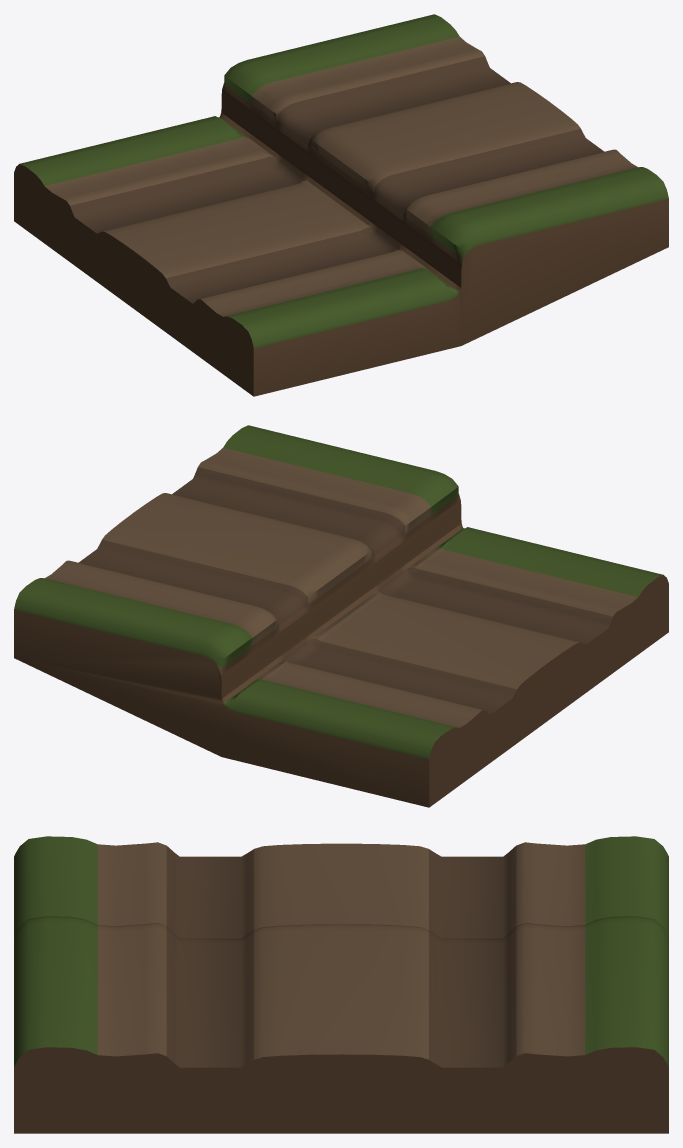
The picture shows the model from 3 angles, top to bottom: view 1: azimuth 30°, elevation 25°; view 2: azimuth 150°, elevation 25°; view 3: azimuth 270°, elevation 25°; orthographic projection. The views are drawn at different scales.
Parts seen in each view (by area): view 1: k1o; view 2: k1o; view 3: k1o.
Boxes of the visible parts, box(x1,y1,x2,y2) form: k1o: box(14, 14, 668, 396); k1o: box(14, 425, 668, 807); k1o: box(14, 836, 668, 1133).
Bounding box in the file's own units: 9 × 2.31 × 9.
